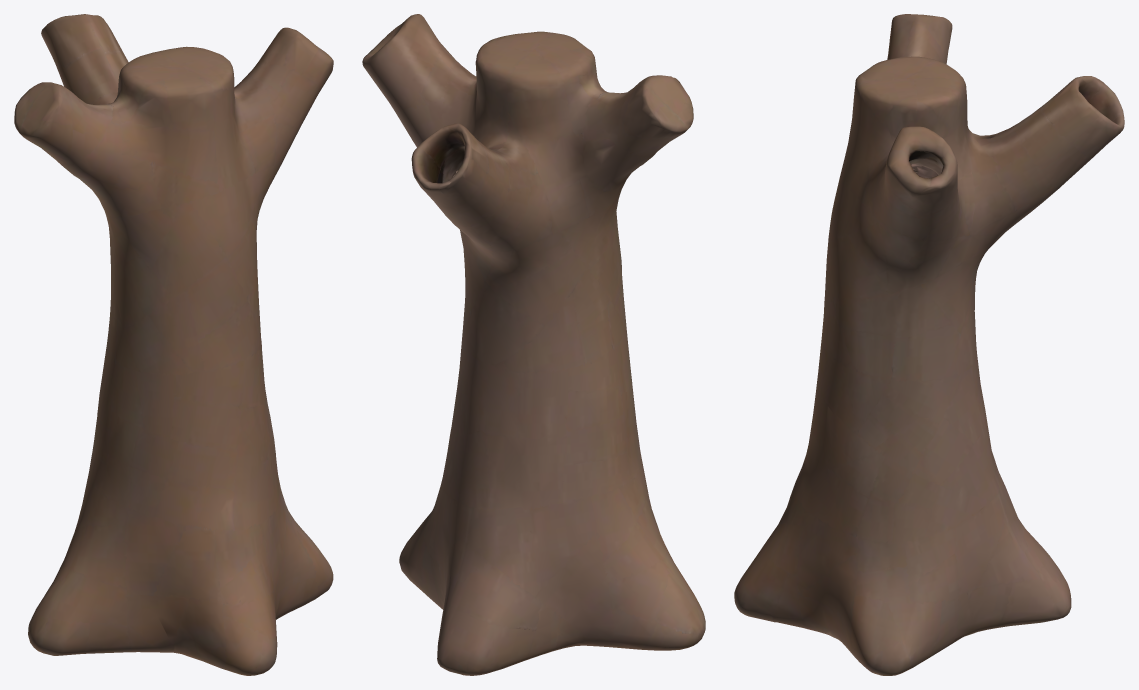
The model's file is Log_Green_Cauliflower.glb.
3 views of the same model, side by side, from view 1: azimuth 30°, elevation 25°; view 2: azimuth 150°, elevation 25°; view 3: azimuth 270°, elevation 25° (orthographic). The views are drawn at different scales.
Bounding box in the file's own units: 1.17 × 2 × 1.3.
1 material, 1 textured.
